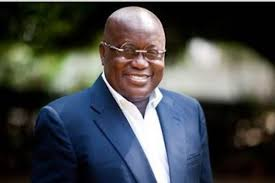person: (99, 5, 167, 102)
